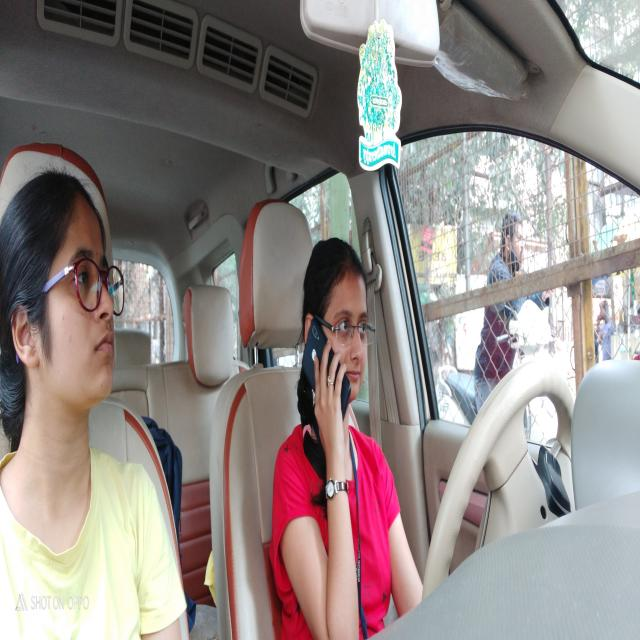mobile: (302, 317, 352, 423)
person: (3, 163, 127, 463), (300, 228, 377, 448)
